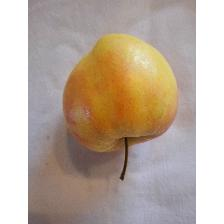Apfel: (60, 31, 180, 183)
